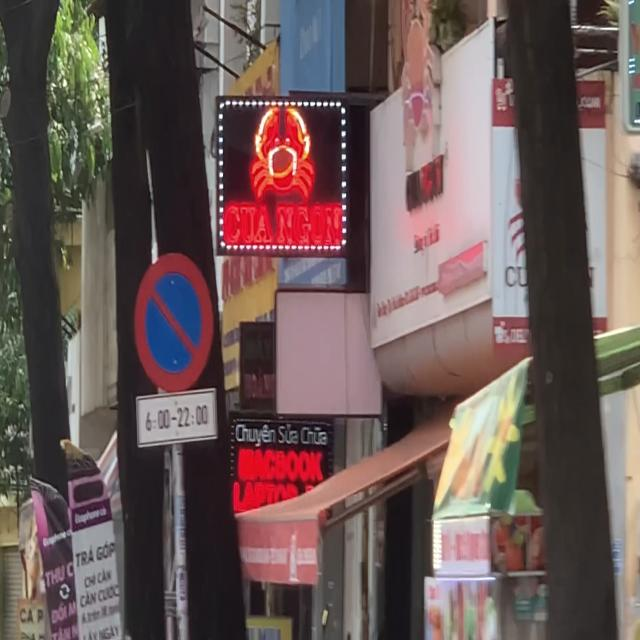Cam do: (135, 250, 216, 390)
